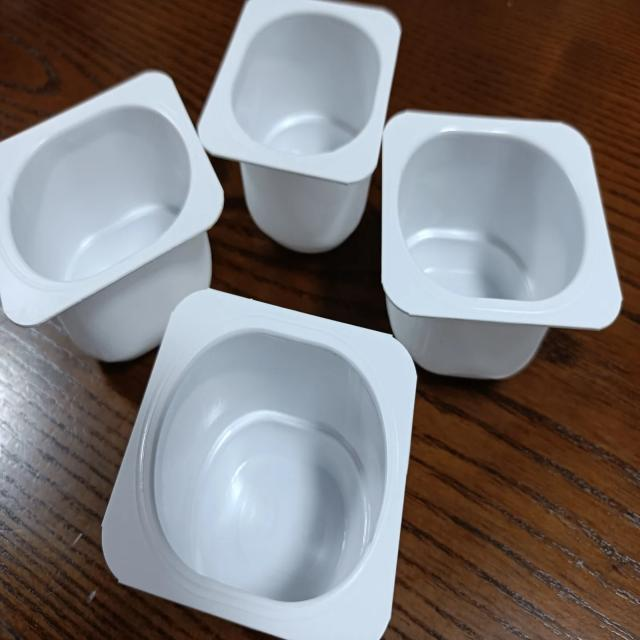plastic: (104, 290, 418, 640), (375, 111, 615, 377), (0, 70, 213, 366), (201, 0, 401, 249)
